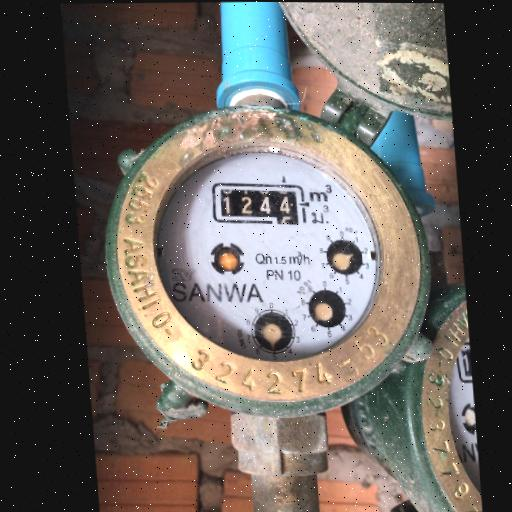1: (220, 190, 234, 217)
2: (238, 190, 254, 216)
4: (275, 190, 295, 225), (257, 190, 273, 217)
border_water_meter_number: (209, 181, 311, 229)
